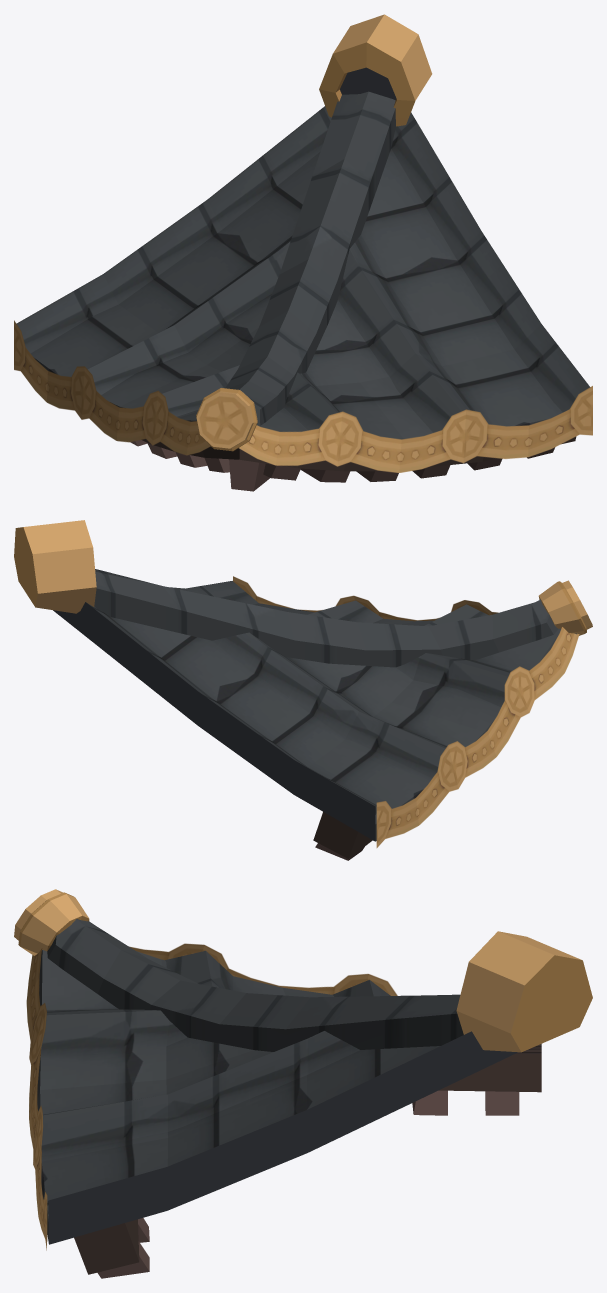
Rendered from samurai_SM_Bld_Roof_Edge_Corner_01.gltf.
3 renders of one model, top to bottom at view 1: azimuth 30°, elevation 25°; view 2: azimuth 150°, elevation 25°; view 3: azimuth 270°, elevation 25°, orthographic. The views are drawn at different scales.
Visible parts, largest first — view 1: SM_Bld_Roof_Edge_Corner_01; view 2: SM_Bld_Roof_Edge_Corner_01; view 3: SM_Bld_Roof_Edge_Corner_01.
Boxes of the visible parts, box(x1,y1,x2,y2) form: SM_Bld_Roof_Edge_Corner_01: box(14, 14, 592, 491); SM_Bld_Roof_Edge_Corner_01: box(14, 520, 592, 860); SM_Bld_Roof_Edge_Corner_01: box(14, 889, 592, 1278).
Bounding box in the file's own units: 2.9 × 1.87 × 2.91.
1 material, 1 textured.
